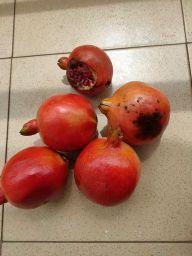pomegranate: (75, 128, 141, 206), (18, 93, 98, 154), (100, 80, 171, 146), (0, 146, 71, 210), (56, 44, 112, 96)
